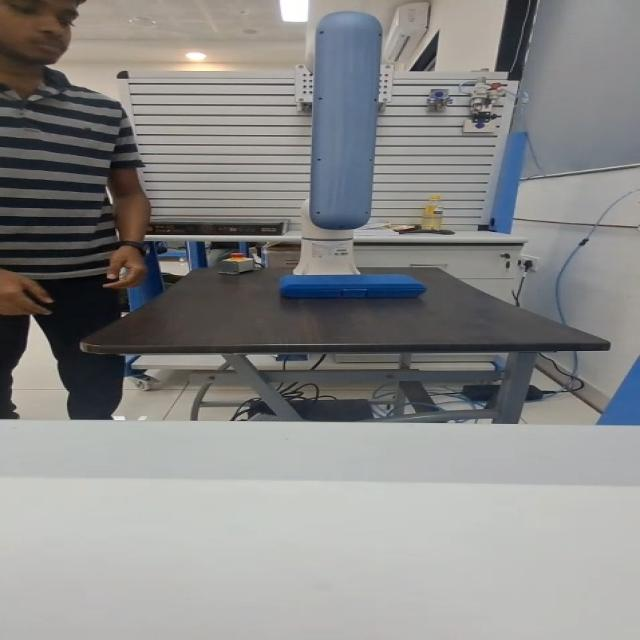top-surface: (292, 275, 410, 282)
